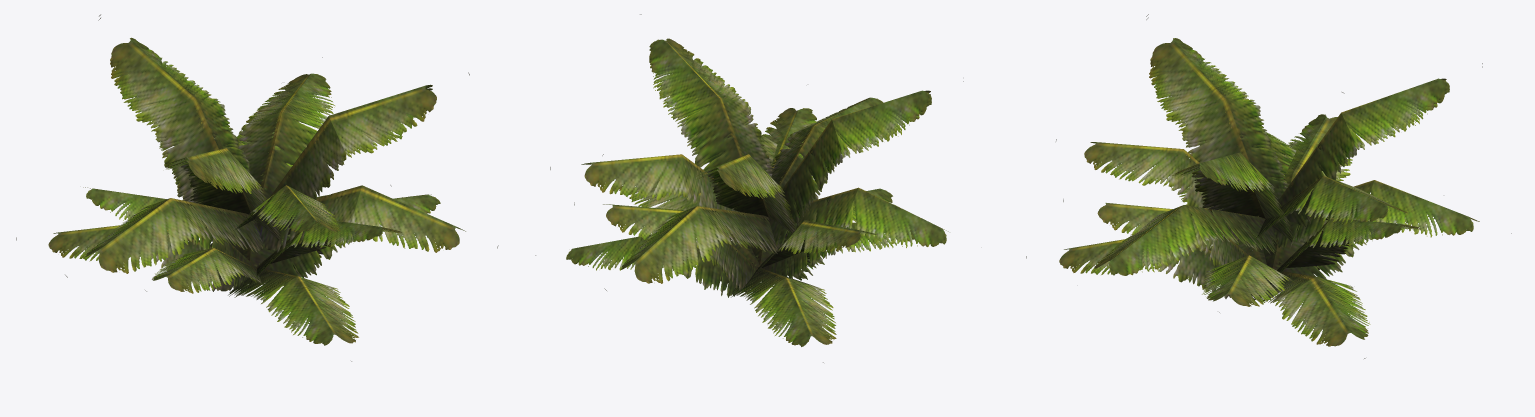
File: fern_tropical_b.glb
3 views of the same model, side by side, from view 1: azimuth 30°, elevation 25°; view 2: azimuth 150°, elevation 25°; view 3: azimuth 270°, elevation 25° (orthographic). The views are drawn at different scales.
Parts seen in each view (by area): view 1: fern_tropical_b; view 2: fern_tropical_b; view 3: fern_tropical_b.
Part boxes in pixels (x1,y1,x2,y2): fern_tropical_b: [16, 14, 498, 361]; fern_tropical_b: [535, 14, 963, 362]; fern_tropical_b: [1026, 14, 1511, 358].
Bounding box in the file's own units: 7.32 × 3.82 × 7.65.
Materials: 1 (1 with a texture image).
